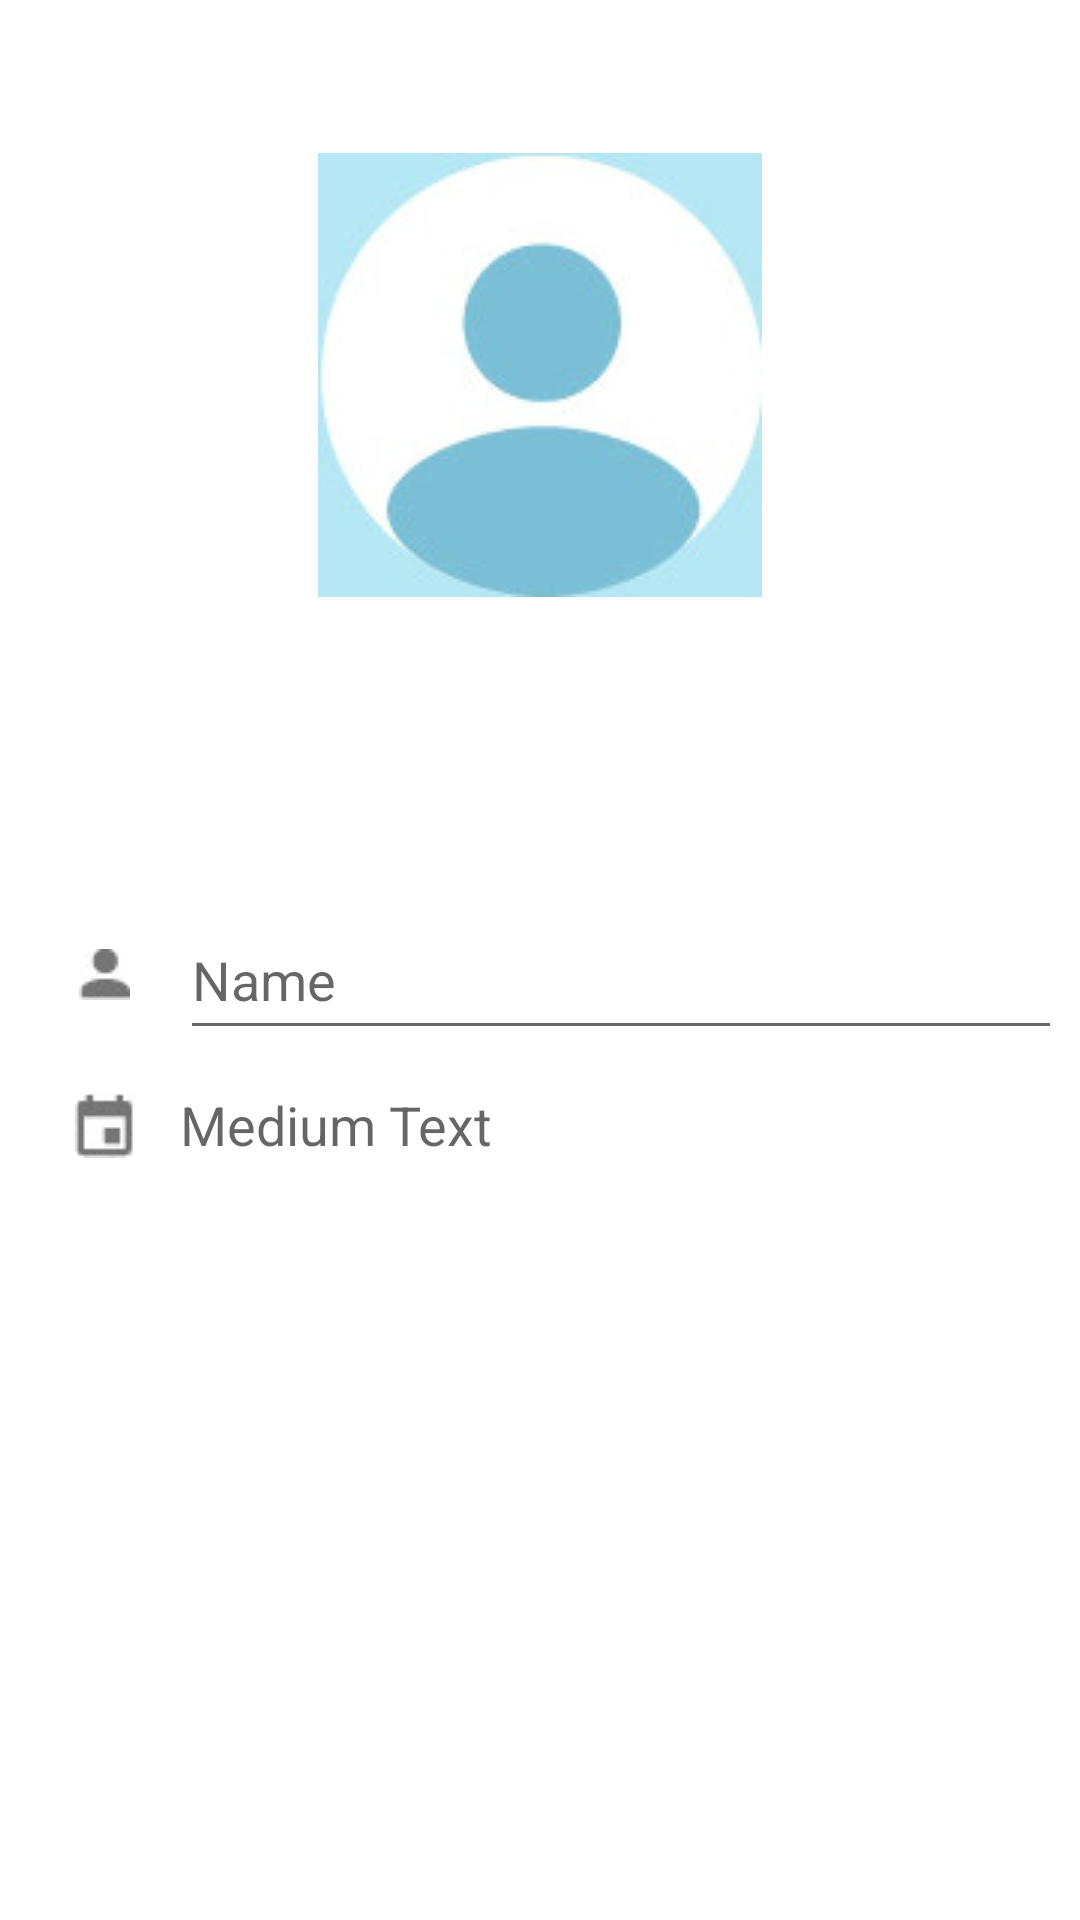

Screen size 1080px×1920px. Icon name, then its center in pixels as (x=x, y=y):
calendar: (x=104, y=1126)
human: (x=104, y=974)
